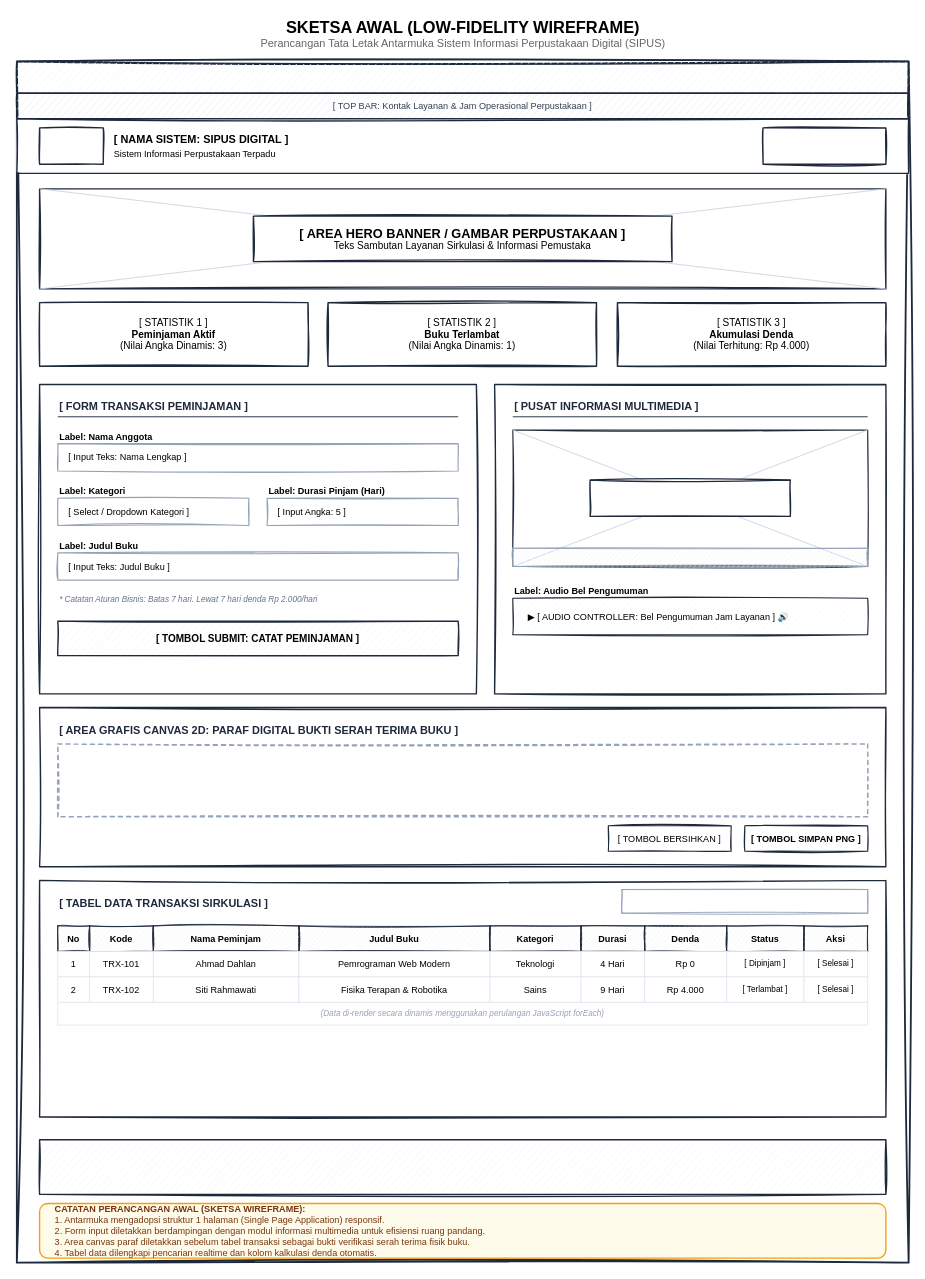
The diagram is 925 pixels wide and 1279 high, and some of its shapes have lost their labels. The shapes that lost their labels are listed below. From the top down, each one's centre as x and y in pixels, then its label:
At [462,77]: "◯ ◯ ◯ | [ URL: https://perpustakaan-digital.id/ ]".
At [71,146]: "[ LOGO ] IKON BUKU".
At [824,146]: "[ PROFIL PETUGAS ] Status: Sistem Aktif".
At [690,498]: "▶ [ VIDEO PLAYER PANDUAN ]".
At [690,556]: "[ Controls: Play | Progress Bar | Durasi | Volume | Fullscreen ]".
At [462,780]: "~ ~ ~ (Area Goresan Mouse / Touch Screen untuk Tanda Tangan Peminjam) ~ ~ ~".
At [744,901]: "[ Input Pencarian Realtime: Cari nama/judul... ]".
At [462,1167]: "[ FOOTER: Identitas Sistem Informasi Perpustakaan (SIPUS) & Hak Cipta 2026 ]".
